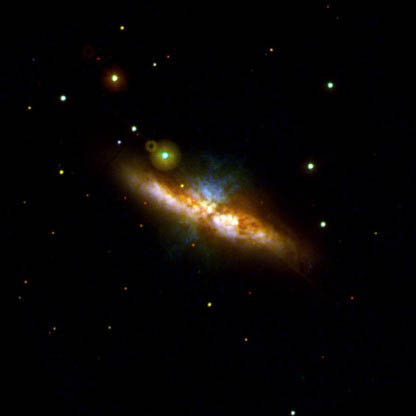Messier 82: (93, 133, 320, 279)
